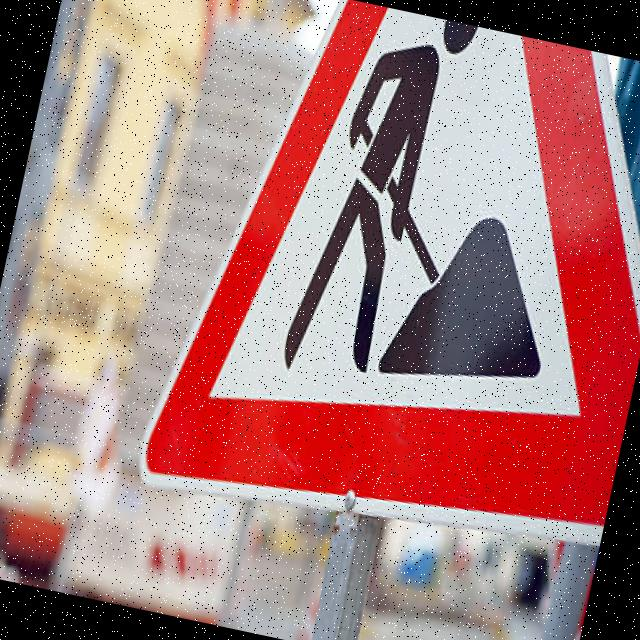road_work: (138, 0, 640, 567)
